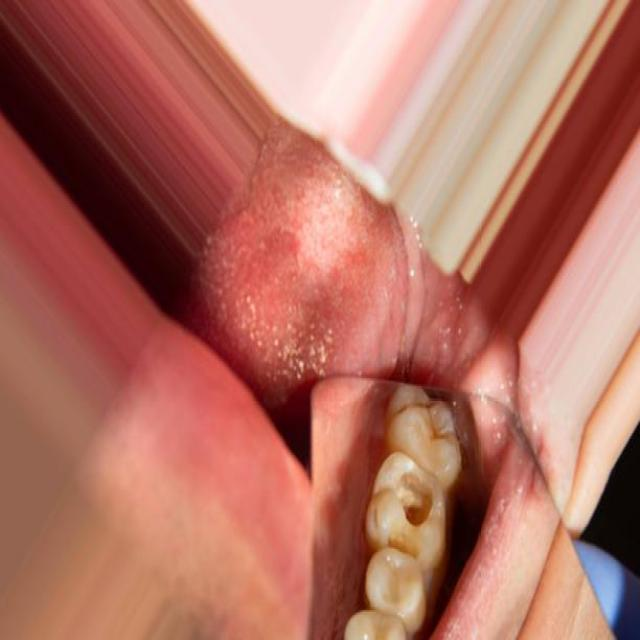caries: (372, 452, 439, 560)
